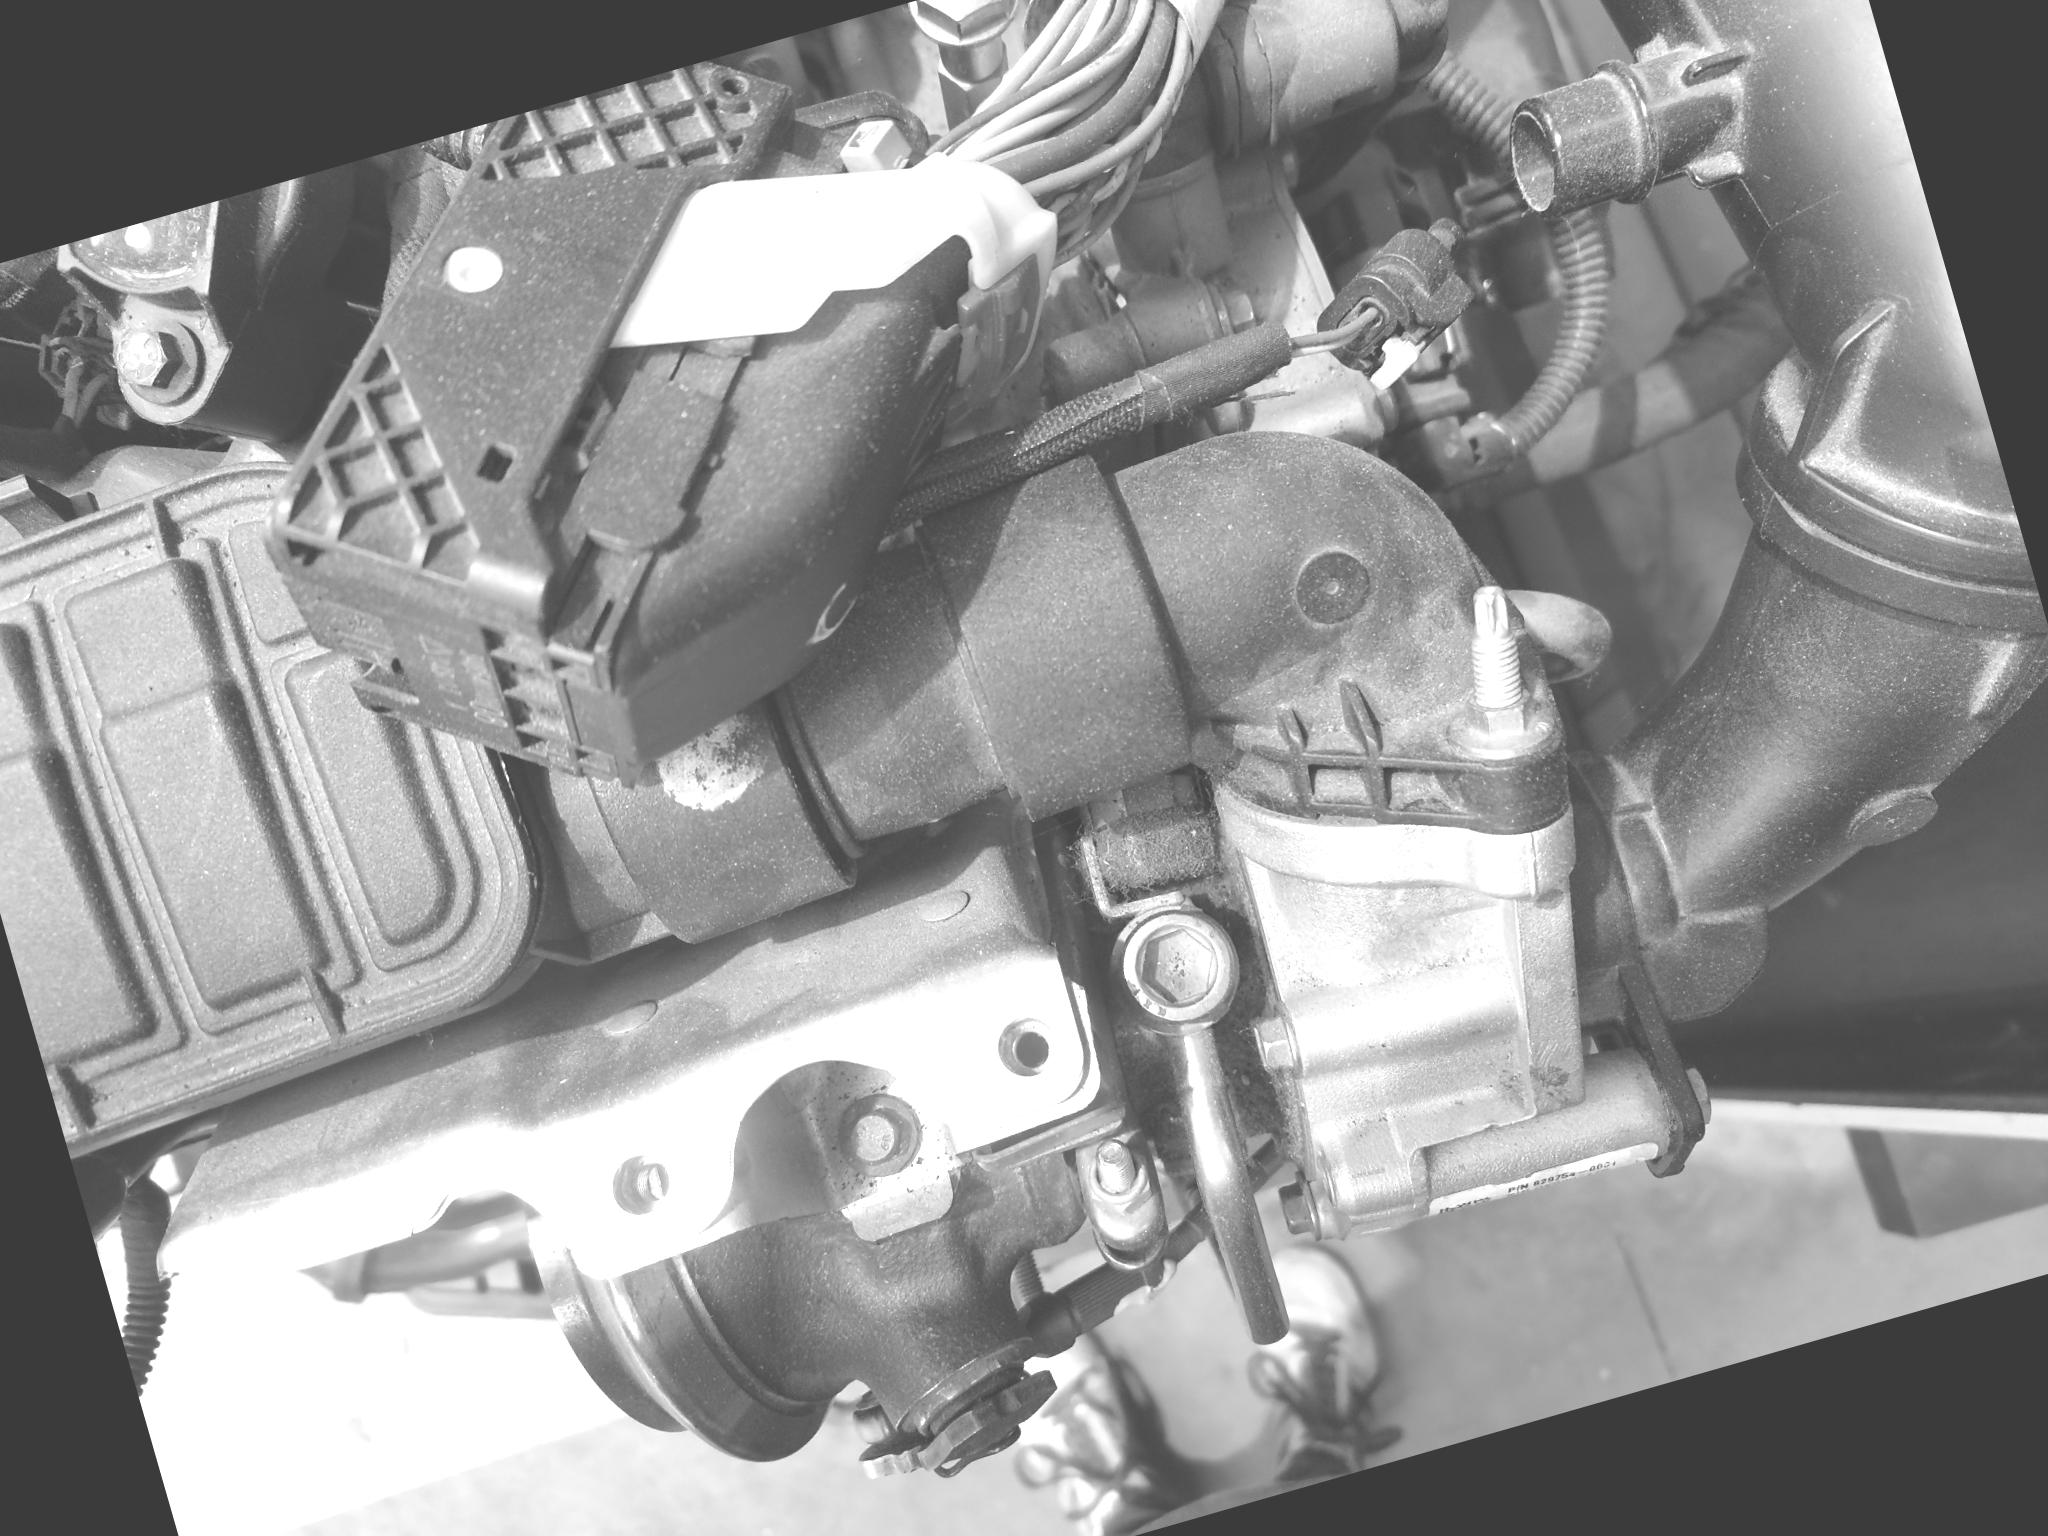screw: (1092, 889, 1261, 1052), (816, 1078, 940, 1200)
